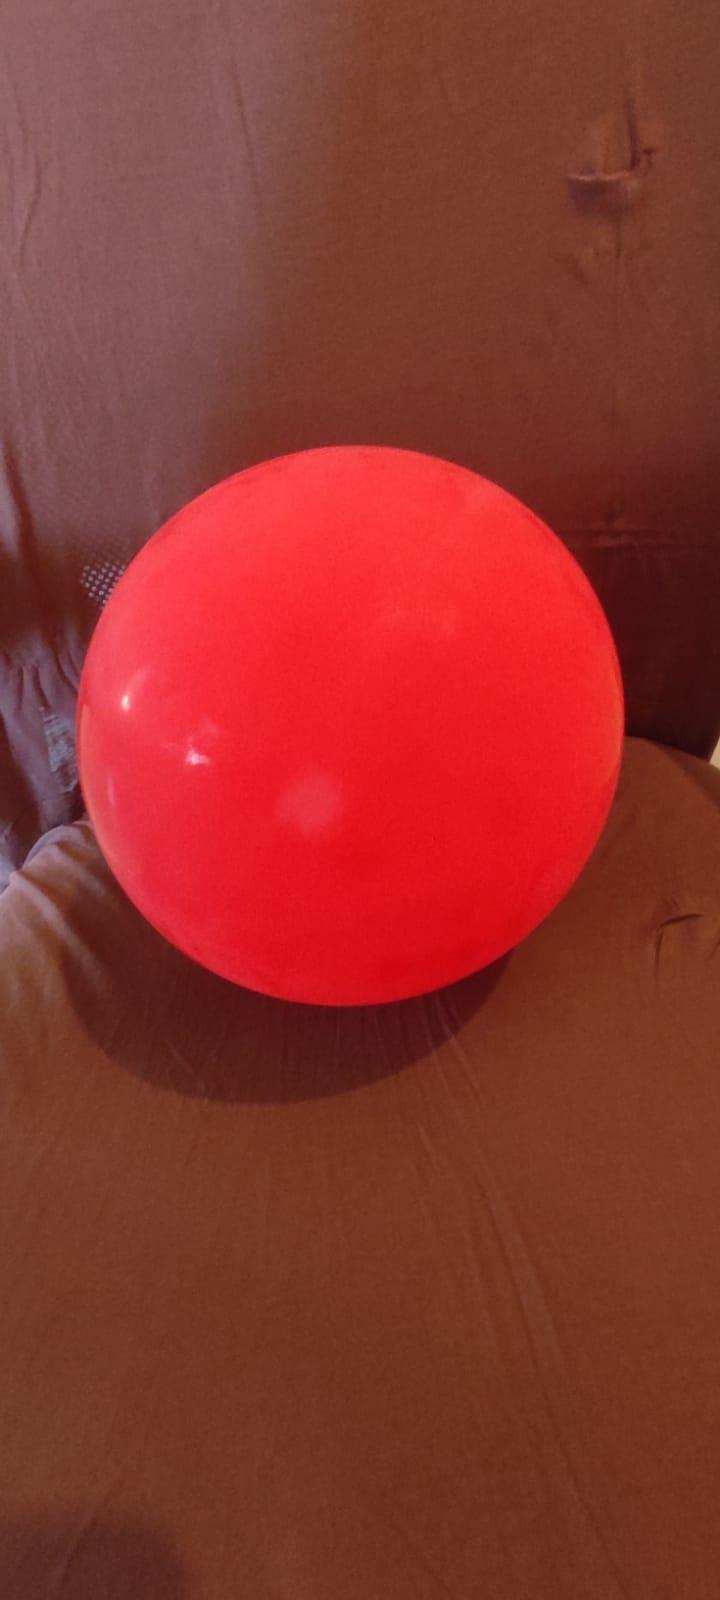red: (70, 438, 629, 1006)
